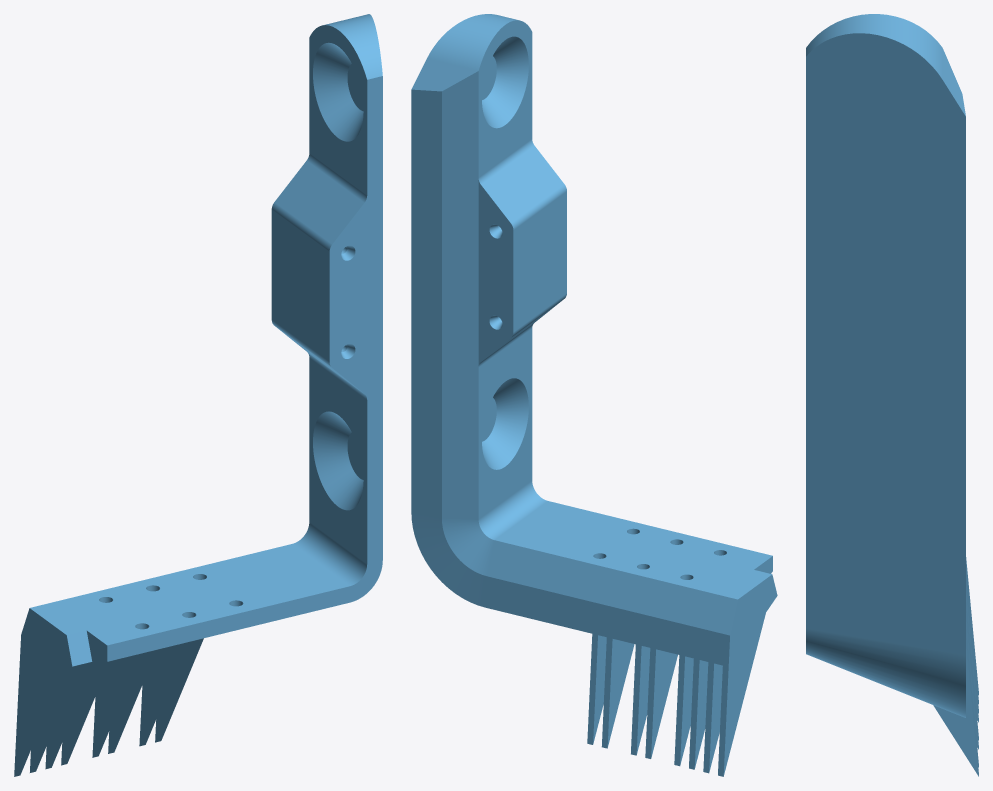
Rendered from MBMK3_Left_Wheel_Guard.gltf.
3 renders of one model, left to right at view 1: azimuth 30°, elevation 25°; view 2: azimuth 150°, elevation 25°; view 3: azimuth 270°, elevation 25°, orthographic. The views are drawn at different scales.
Parts seen in each view (by area): view 1: mesh1547, mesh1560, mesh1533, mesh1519, mesh1556, mesh1537, mesh1535, mesh1518, mesh1538, mesh1520, mesh1528, mesh1593 (+15 smaller); view 2: mesh1529, mesh1524, mesh1560, mesh1522, mesh1597, mesh1533, mesh1519, mesh1540, mesh1556, mesh1537, mesh1535, mesh1523 (+21 smaller); view 3: mesh1525, mesh1527, mesh1528, mesh1609, mesh1526.
Boxes of the visible parts, bbox=[...] form: mesh1547: bbox=[107, 76, 382, 661]; mesh1560: bbox=[30, 544, 349, 645]; mesh1533: bbox=[271, 210, 329, 361]; mesh1519: bbox=[309, 358, 367, 563]; mesh1556: bbox=[14, 608, 72, 775]; mesh1537: bbox=[309, 25, 367, 194]; mesh1535: bbox=[275, 160, 363, 244]; mesh1518: bbox=[313, 411, 363, 510]; mesh1538: bbox=[313, 42, 363, 141]; mesh1520: bbox=[292, 522, 367, 585]; mesh1528: bbox=[323, 14, 382, 79]; mesh1593: bbox=[139, 643, 181, 745]; mesh1529: bbox=[442, 71, 478, 519]; mesh1524: bbox=[411, 89, 441, 517]; mesh1560: bbox=[495, 501, 772, 599]; mesh1522: bbox=[487, 540, 737, 635]; mesh1597: bbox=[485, 576, 729, 666]; mesh1533: bbox=[513, 191, 566, 331]; mesh1519: bbox=[478, 329, 532, 518]; mesh1540: bbox=[478, 180, 513, 365]; mesh1556: bbox=[723, 574, 777, 775]; mesh1537: bbox=[478, 20, 532, 177]; mesh1535: bbox=[481, 146, 563, 222]; mesh1523: bbox=[411, 512, 486, 607]; mesh1525: bbox=[806, 33, 965, 655]; mesh1527: bbox=[806, 628, 965, 717]; mesh1528: bbox=[806, 14, 942, 79]; mesh1609: bbox=[933, 642, 978, 776]; mesh1526: bbox=[942, 48, 965, 116].
Size of the model in its own units: 0.1094 by 0.217 by 0.0405.
